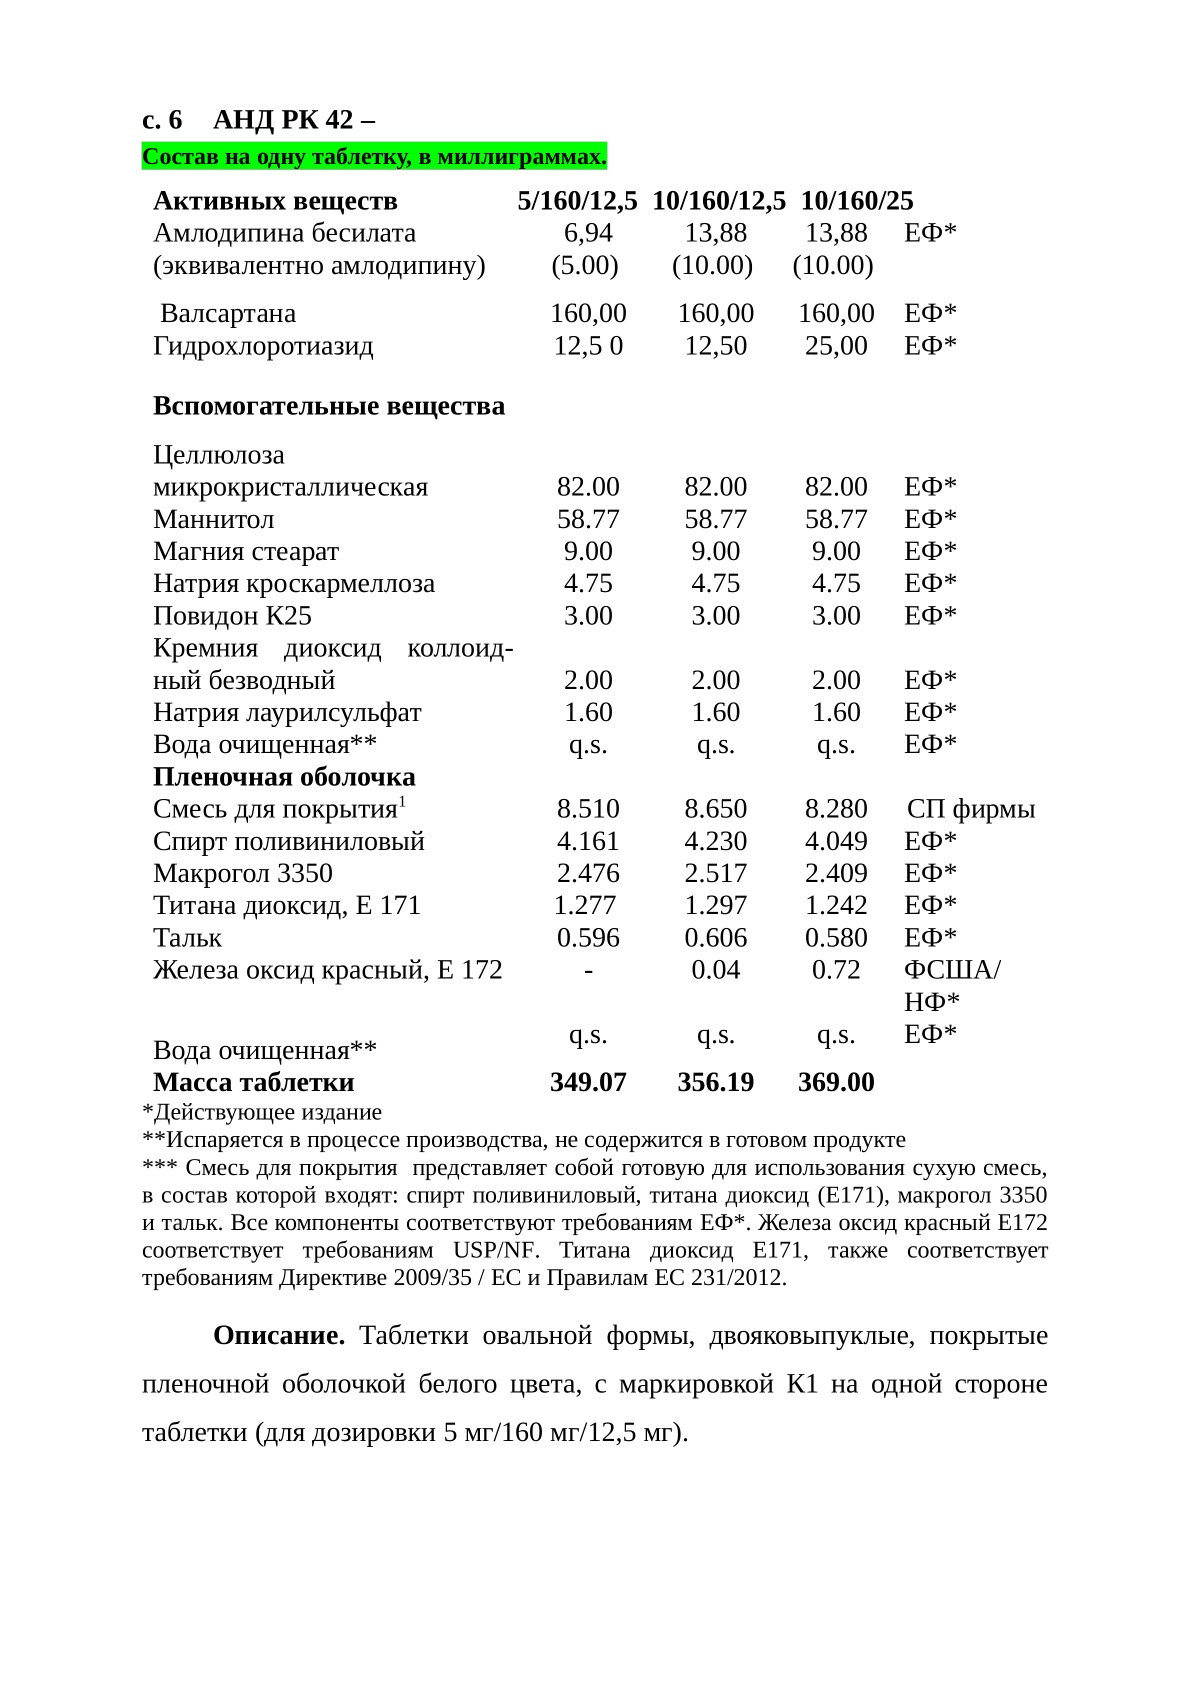nolines: (151, 189, 1041, 1096)
